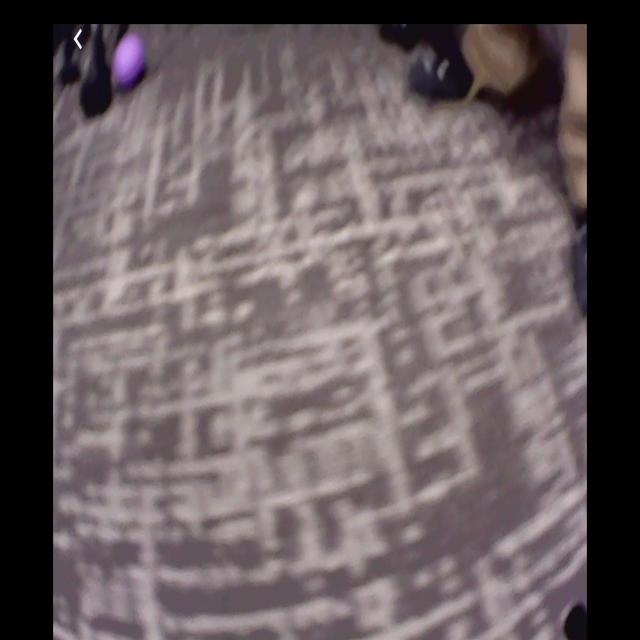ball: (113, 33, 147, 88)
